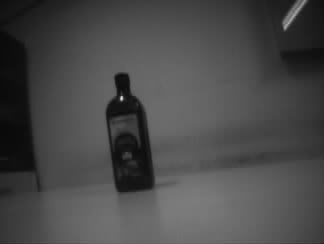Bottle: (106, 73, 156, 193)
